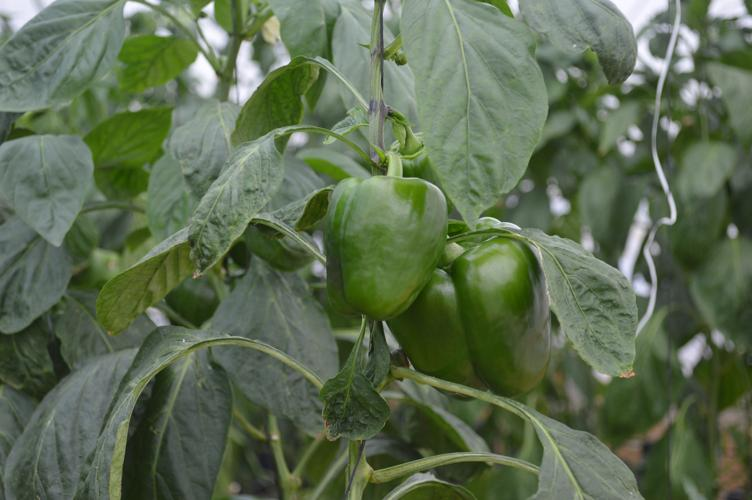BellPepper: (396, 238, 551, 399), (326, 179, 447, 322), (395, 138, 441, 187), (173, 276, 219, 321)
